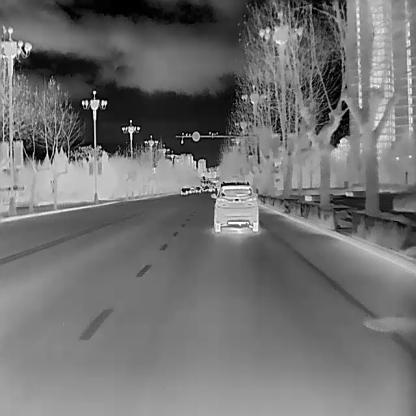car: (210, 180, 259, 232), (180, 187, 187, 194), (195, 186, 200, 192), (190, 187, 194, 192)
